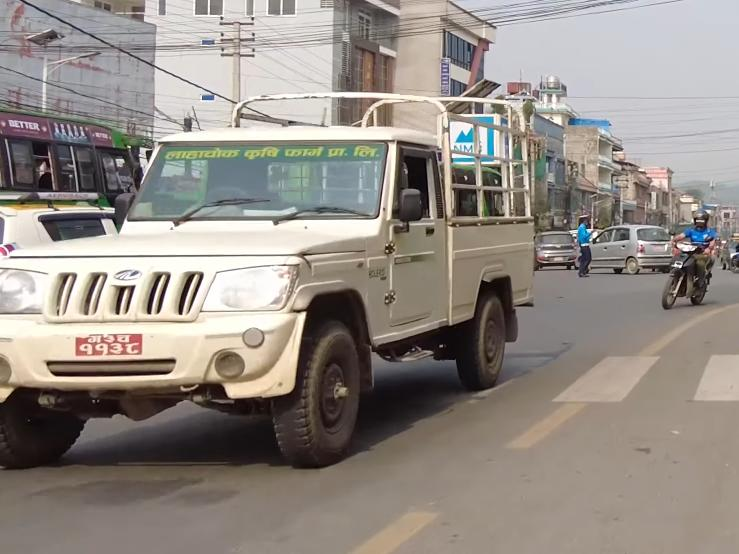bus: (0, 88, 166, 268)
car: (577, 216, 676, 279), (533, 219, 585, 278)
scooter: (658, 213, 721, 309)
transport_vehicle: (0, 86, 540, 474)
